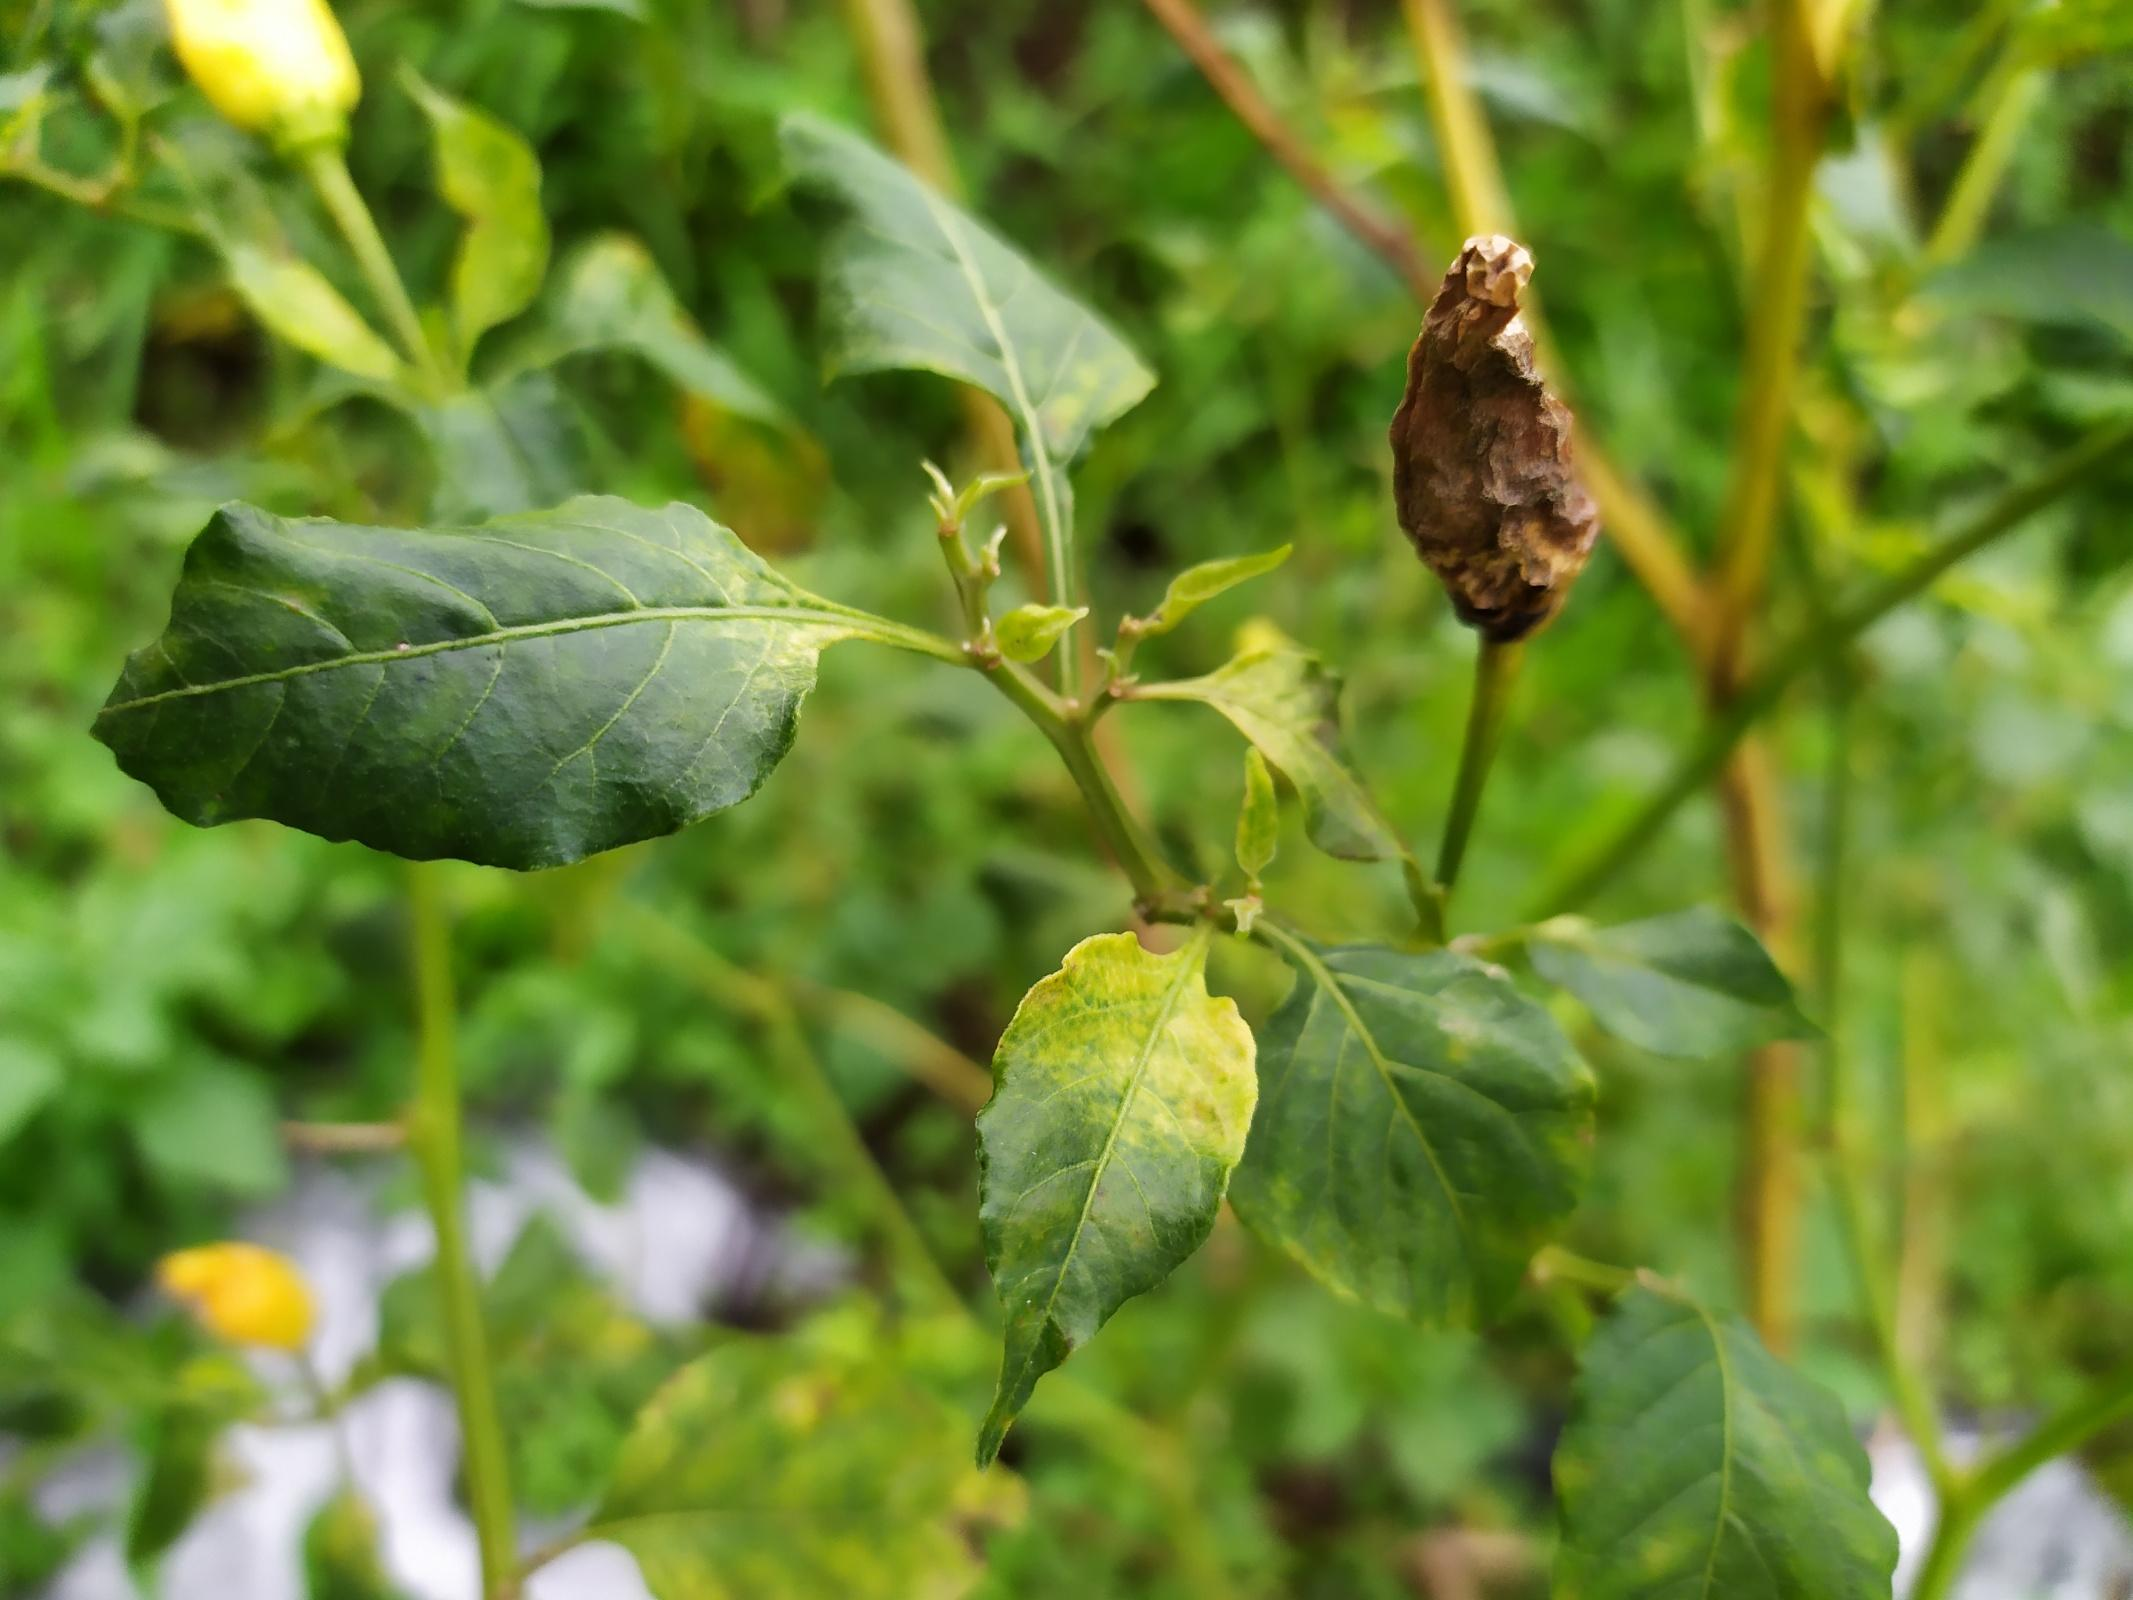antraknosa: (1387, 235, 1600, 645)
